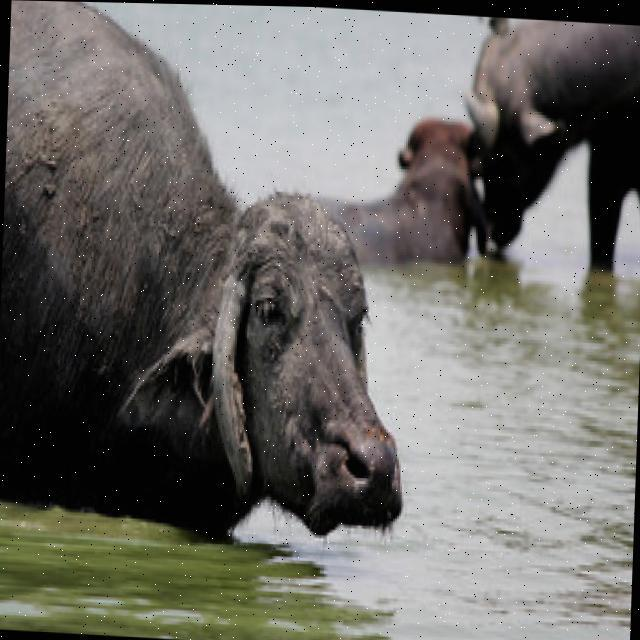Buffalo: (0, 0, 419, 551)
